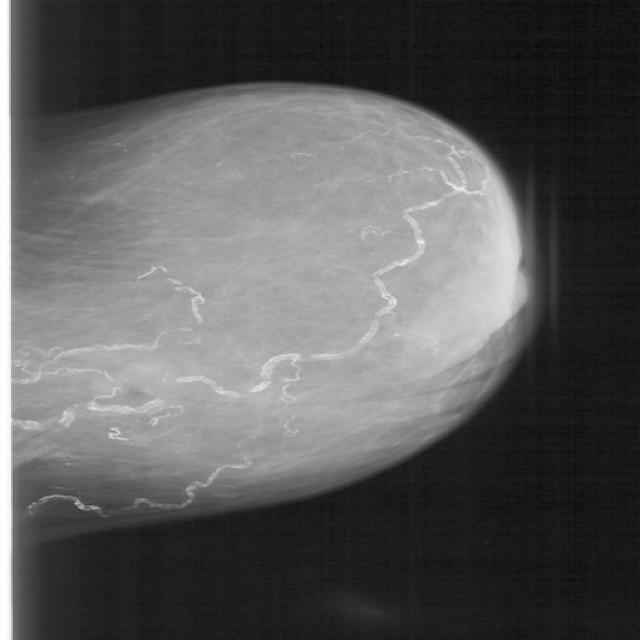tumour: (117, 360, 187, 398)
